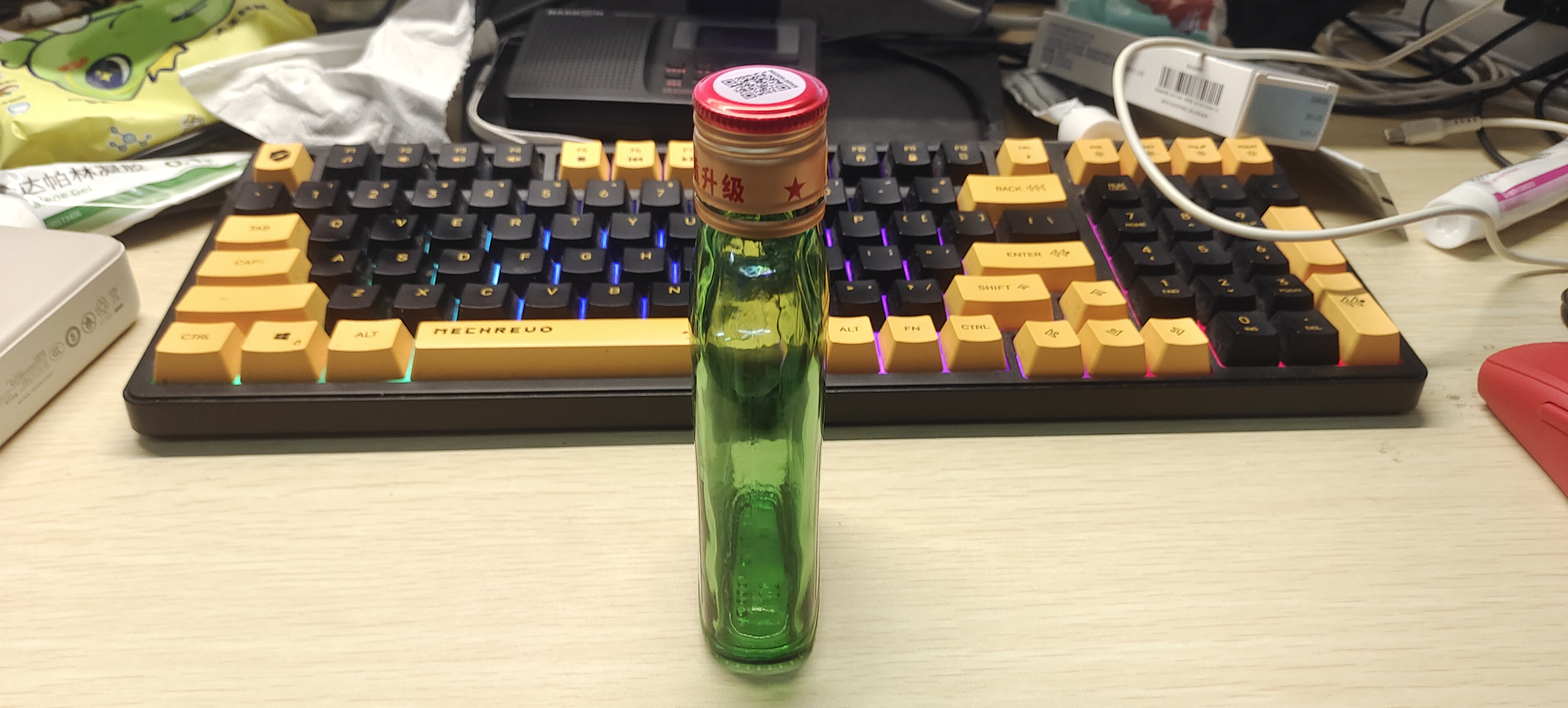redbull: (554, 26, 965, 708)
